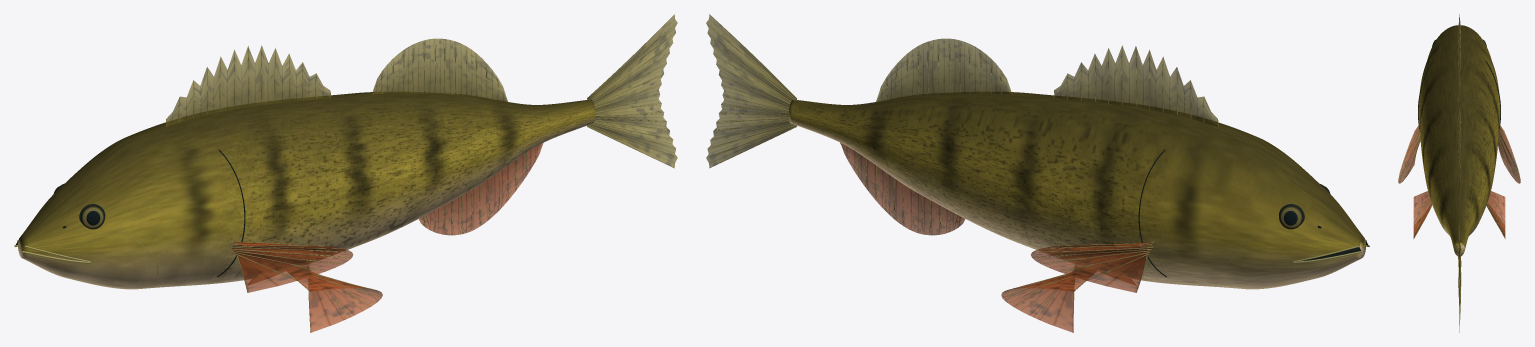
The model's file is yellow-perch.glb.
3 views of the same model, side by side, from view 1: azimuth 30°, elevation 25°; view 2: azimuth 150°, elevation 25°; view 3: azimuth 270°, elevation 25° (orthographic). The views are drawn at different scales.
Parts seen in each view (by area): view 1: yellow-perch specimen; view 2: yellow-perch specimen; view 3: yellow-perch specimen.
Part boxes in pixels (x1,y1,x2,y2): yellow-perch specimen: [14, 14, 677, 332]; yellow-perch specimen: [706, 14, 1369, 332]; yellow-perch specimen: [1398, 14, 1520, 332].
Size of the model in its own units: 2.37 by 0.933 by 0.5307.
10 materials, 6 textured.
